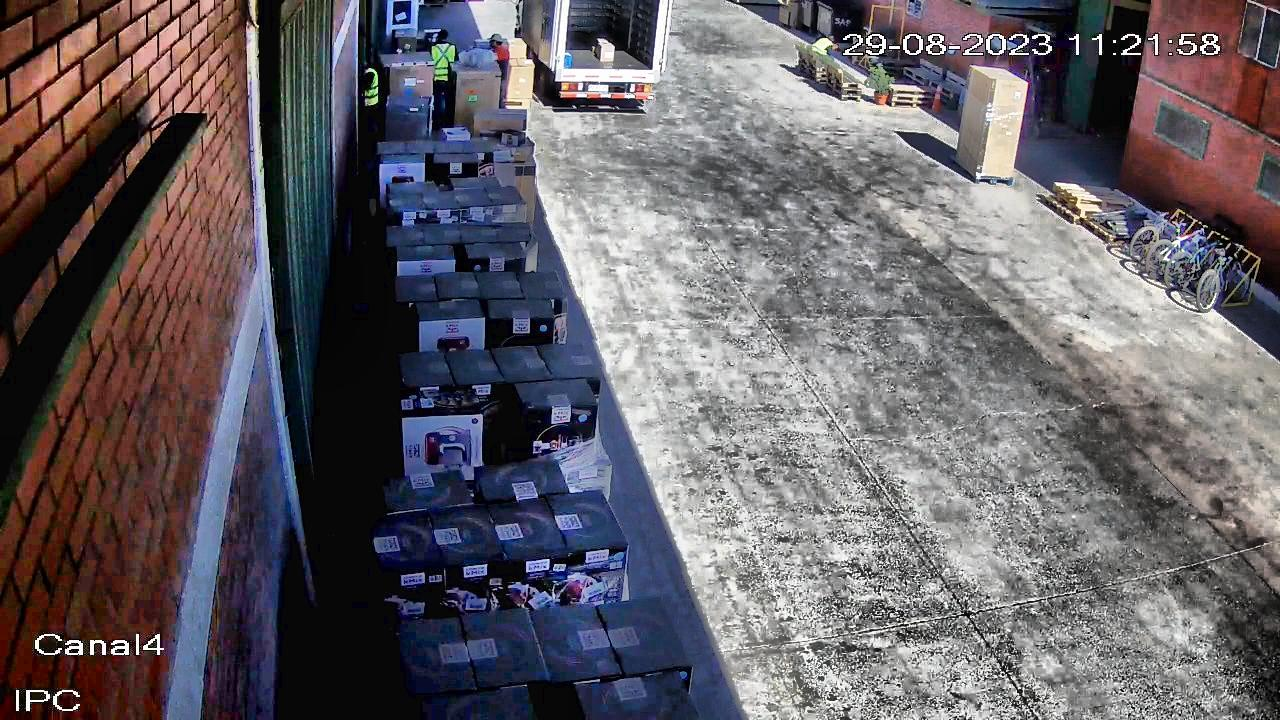con-casco: (487, 31, 508, 45)
con-chaleco: (428, 40, 458, 82), (358, 65, 384, 110), (809, 36, 836, 60)
persona: (420, 26, 463, 128), (356, 51, 388, 150), (482, 31, 513, 115), (804, 31, 842, 85)
sin-casco: (431, 28, 451, 45), (360, 55, 377, 70), (827, 34, 836, 42)
sin-chaleco: (485, 44, 510, 84)
